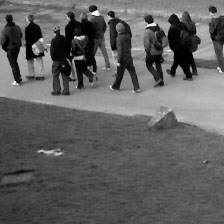person: (109, 22, 141, 92), (142, 14, 167, 86), (1, 13, 24, 85), (167, 13, 191, 81), (24, 13, 47, 80), (71, 27, 94, 90), (49, 24, 69, 96), (180, 10, 201, 76), (64, 11, 83, 81), (89, 4, 108, 71), (80, 11, 99, 78), (207, 5, 224, 74), (107, 11, 125, 76)
